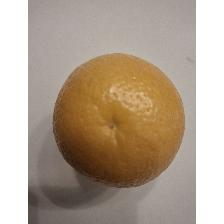Orange: (50, 50, 188, 190)
